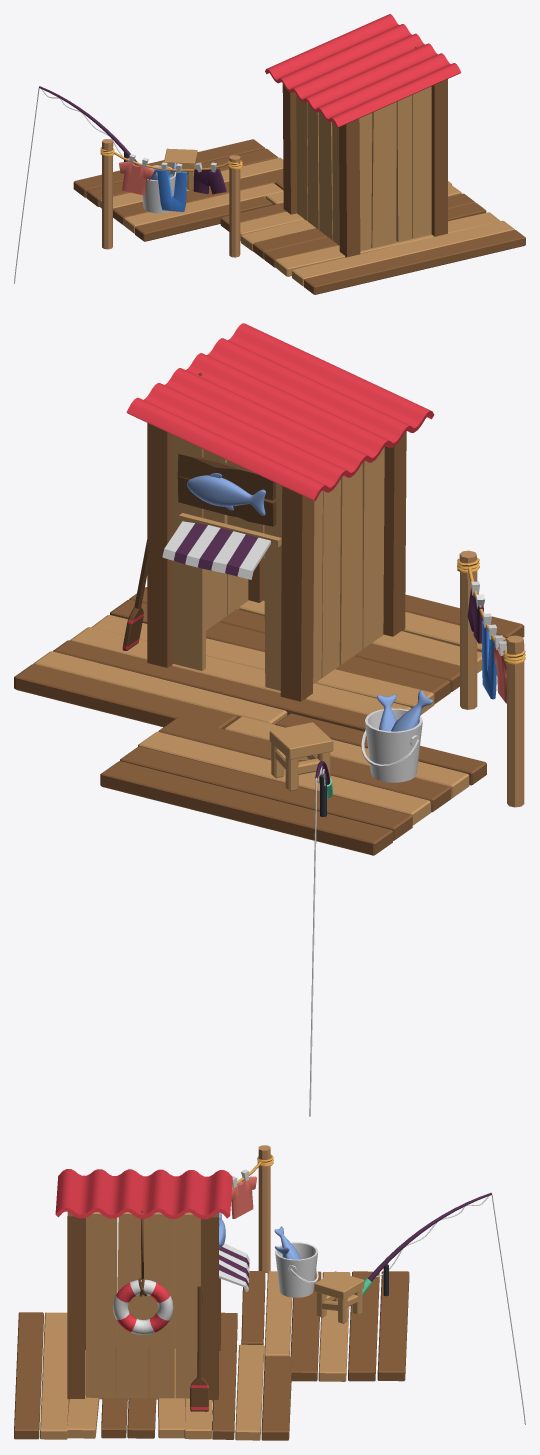
Rendered from SM_Build_03.fbx.
The picture shows the model from 3 angles, top to bottom: view 1: azimuth 30°, elevation 25°; view 2: azimuth 150°, elevation 25°; view 3: azimuth 270°, elevation 25°; orthographic projection. The views are drawn at different scales.
Parts seen in each view (by area): view 1: Cube.069, Cube.094, Cylinder.027, 3.001, Cylinder, 1.001, Chair_03.002, 2.001, Torus, Column_02.015; view 2: Cube.069, Cube.094, Cylinder.027, Torus, Chair_03.002, Cube.099, Cylinder, Cube.103, Cube.073; view 3: Cube.069, Cube.094, Torus.005, Chair_03.002, Torus, Cylinder.027, Cylinder, Cube.073, 1.001, Cube.103.
Boxes of the visible parts, x1,y1,x2,y2 form: Cube.069: (265,14,461,257); Cube.094: (73,139,525,294); Cylinder.027: (102,139,240,257); 3.001: (157,169,187,211); Cylinder: (14,86,139,283); 1.001: (119,161,154,195); Chair_03.002: (164,148,197,190); 2.001: (193,168,226,194); Torus: (142,165,176,213); Column_02.015: (100,147,242,171); Cube.069: (126,323,434,701); Cube.094: (14,587,524,855); Cylinder.027: (459,550,524,807); Torus: (361,708,422,782); Chair_03.002: (269,722,333,791); Cube.099: (187,473,265,515); Cylinder: (309,761,333,1116); Cube.103: (377,690,432,731); Cube.073: (122,539,147,650); Cube.069: (55,1169,249,1401); Cube.094: (14,1271,409,1440); Torus.005: (113,1279,173,1334); Chair_03.002: (314,1271,364,1323); Torus: (275,1242,318,1297); Cylinder.027: (258,1145,270,1272); Cylinder: (362,1192,525,1424); Cube.073: (190,1286,208,1411); 1.001: (231,1176,256,1218); Cube.103: (274,1226,300,1259).
Bounding box in the file's own units: 13.79 × 12.64 × 16.57.
